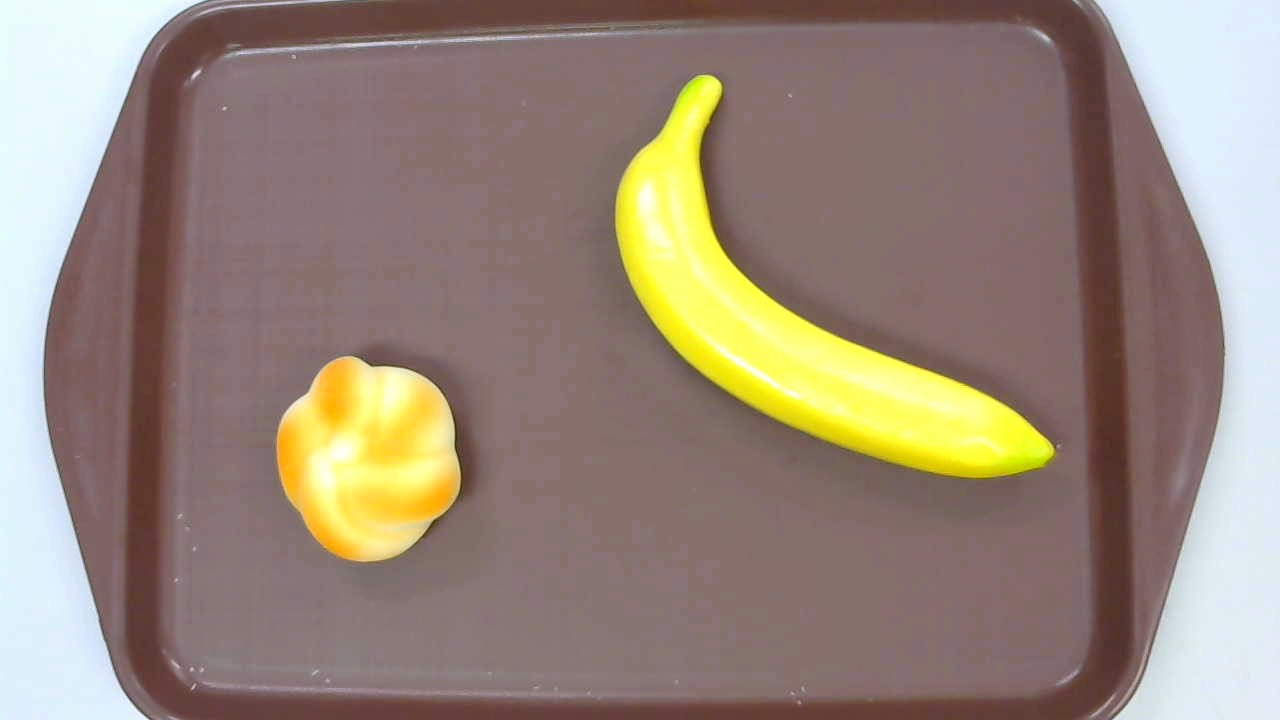banana: (615, 75, 1055, 478)
twist bread: (277, 355, 460, 563)
